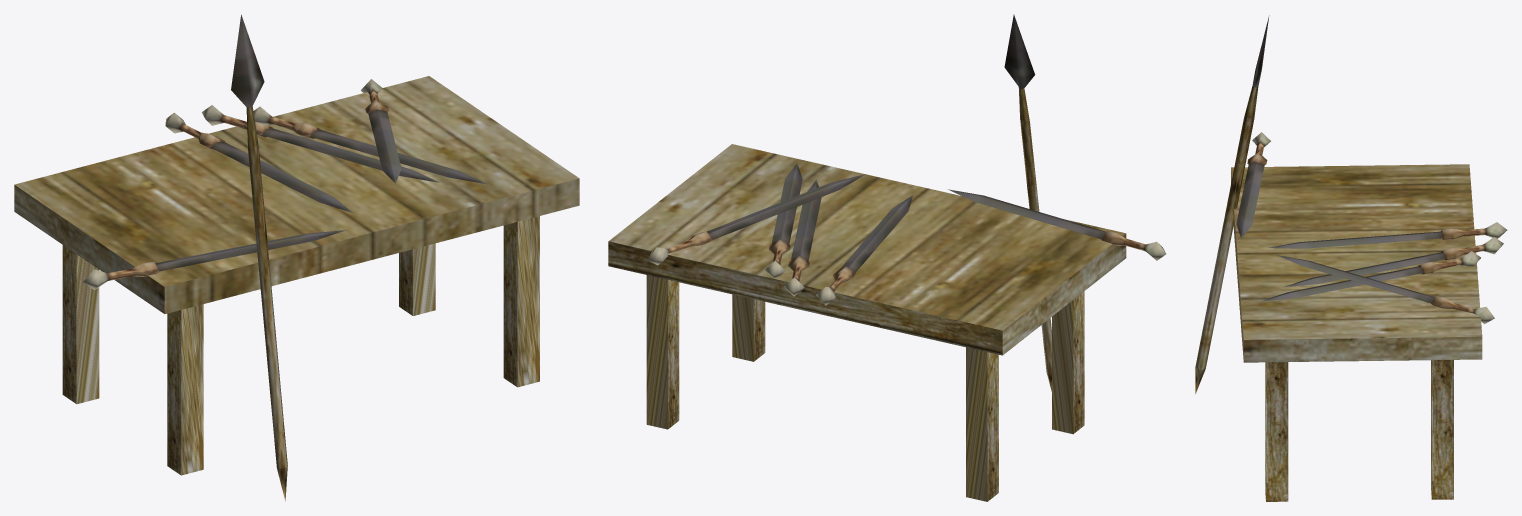
Rendered from eyecandy_iber_weapons_table.glb.
3 views of the same model, side by side, from view 1: azimuth 30°, elevation 25°; view 2: azimuth 150°, elevation 25°; view 3: azimuth 270°, elevation 25° (orthographic). The views are drawn at different scales.
Visible parts, largest first — view 1: Gladius04; view 2: Gladius04; view 3: Gladius04.
Part boxes in pixels (x1,y1,x2,y2): Gladius04: (14, 14, 579, 501); Gladius04: (608, 14, 1166, 501); Gladius04: (1195, 15, 1507, 501).
Size of the model in its own units: 4.38 by 3.93 by 2.91.
1 material, 1 textured.
